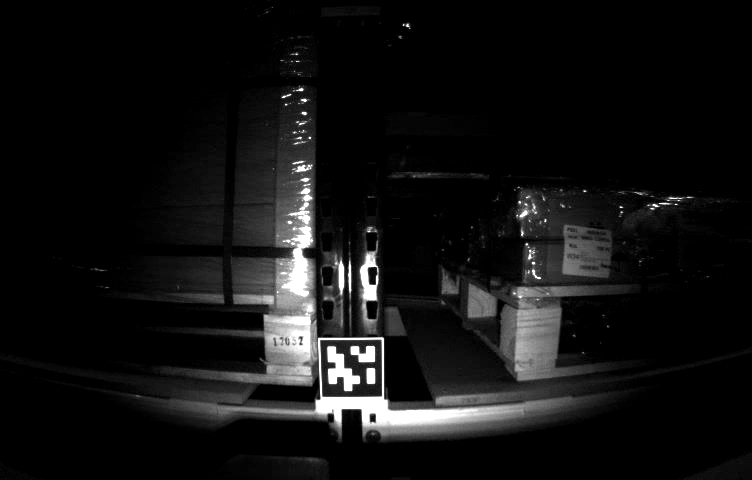True Barcode: (562, 224, 613, 283)
